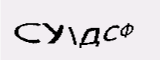Б: (78, 24, 93, 47)
В: (95, 22, 109, 46)
Л: (29, 21, 54, 49)
М: (108, 24, 124, 45)
Ф: (54, 21, 78, 47)
